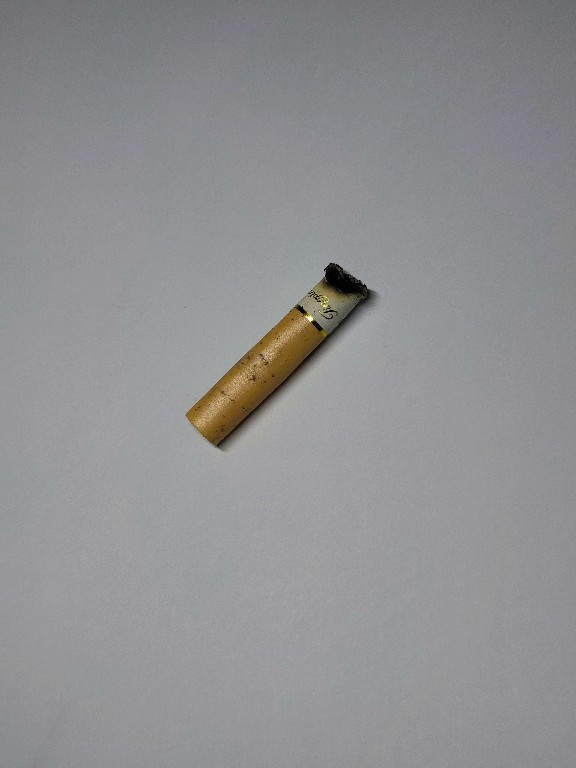cigarette: (181, 259, 376, 451)
